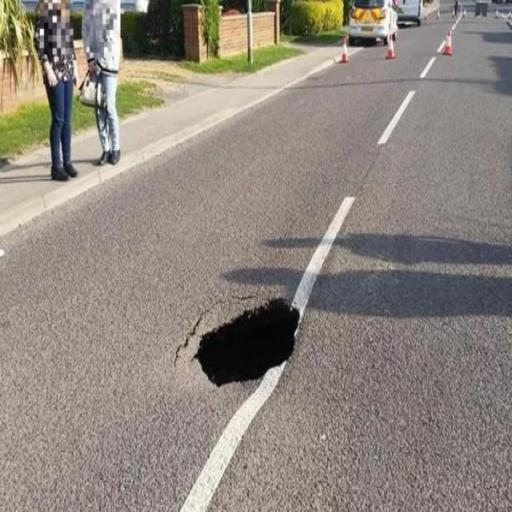Concentric_Crack: (195, 299, 299, 385)
